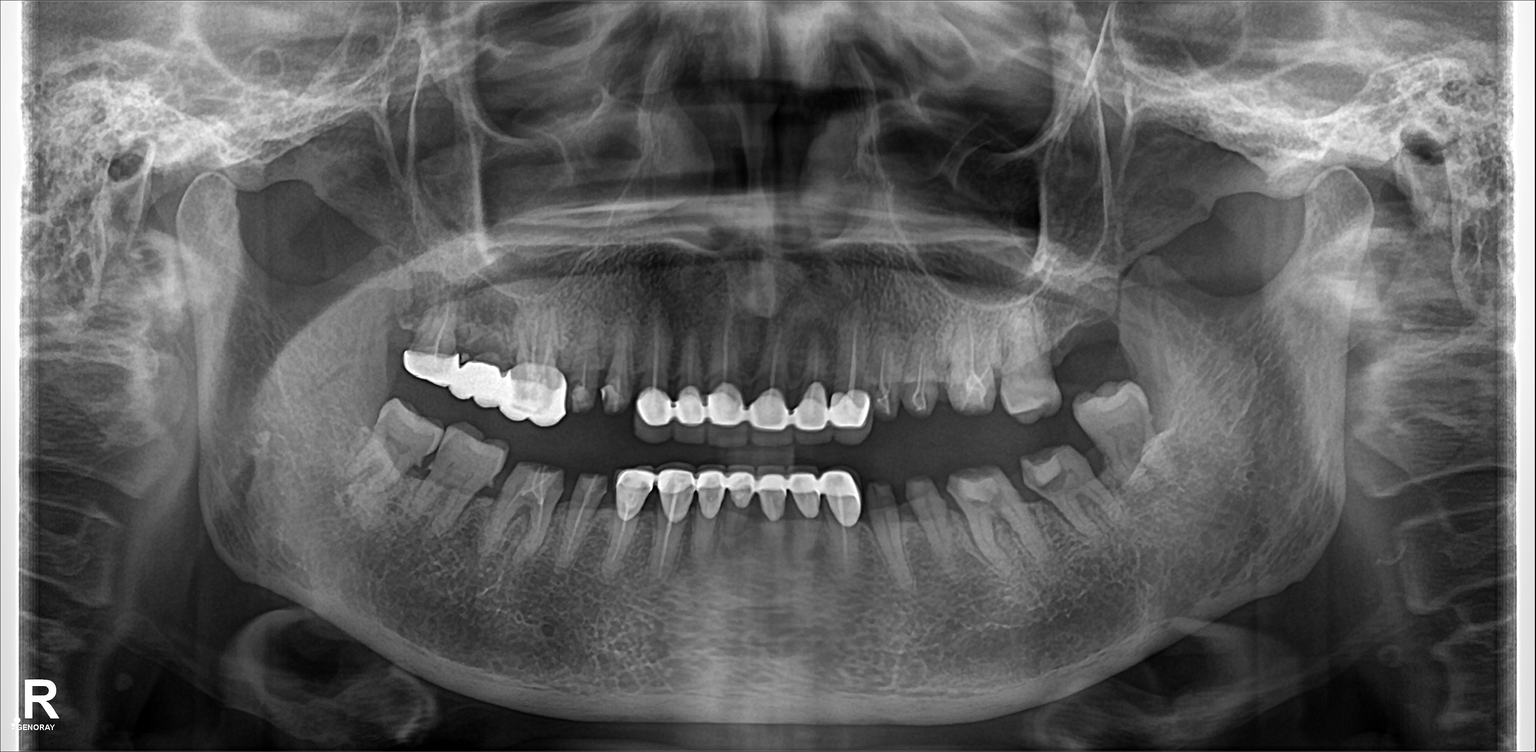Endodontically Treated Tooth: (513, 309, 571, 420), (514, 456, 559, 563), (748, 328, 787, 438), (564, 460, 603, 562), (618, 469, 654, 569), (706, 328, 743, 423), (953, 322, 991, 413), (823, 482, 858, 579), (412, 302, 454, 381), (603, 326, 642, 410), (663, 471, 697, 567), (909, 331, 943, 419), (840, 324, 869, 426), (642, 324, 670, 426), (574, 322, 605, 410), (875, 333, 901, 422), (678, 328, 703, 420), (801, 333, 824, 422)
Impacted Third Molar: (1080, 402, 1168, 481)
Missing Tooth: (1045, 300, 1114, 378)
